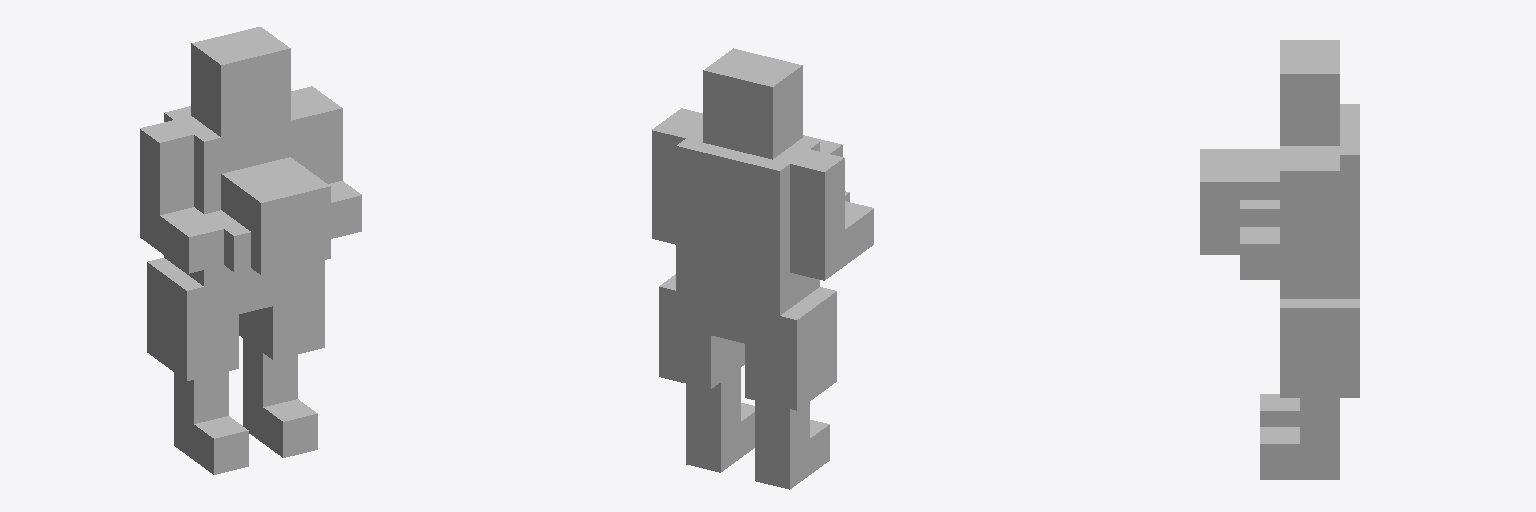
3 views of the same model, side by side, from view 1: azimuth 30°, elevation 25°; view 2: azimuth 150°, elevation 25°; view 3: azimuth 270°, elevation 25° (orthographic).
Visible parts, largest first — view 1: Basketballer; view 2: Basketballer; view 3: Basketballer.
Boxes of the visible parts, x1,y1,x2,y2 form: Basketballer: [140, 27, 361, 474]; Basketballer: [652, 48, 873, 489]; Basketballer: [1200, 40, 1359, 479].
Bounding box in the file's own units: 0.5 × 1.1 × 0.4.